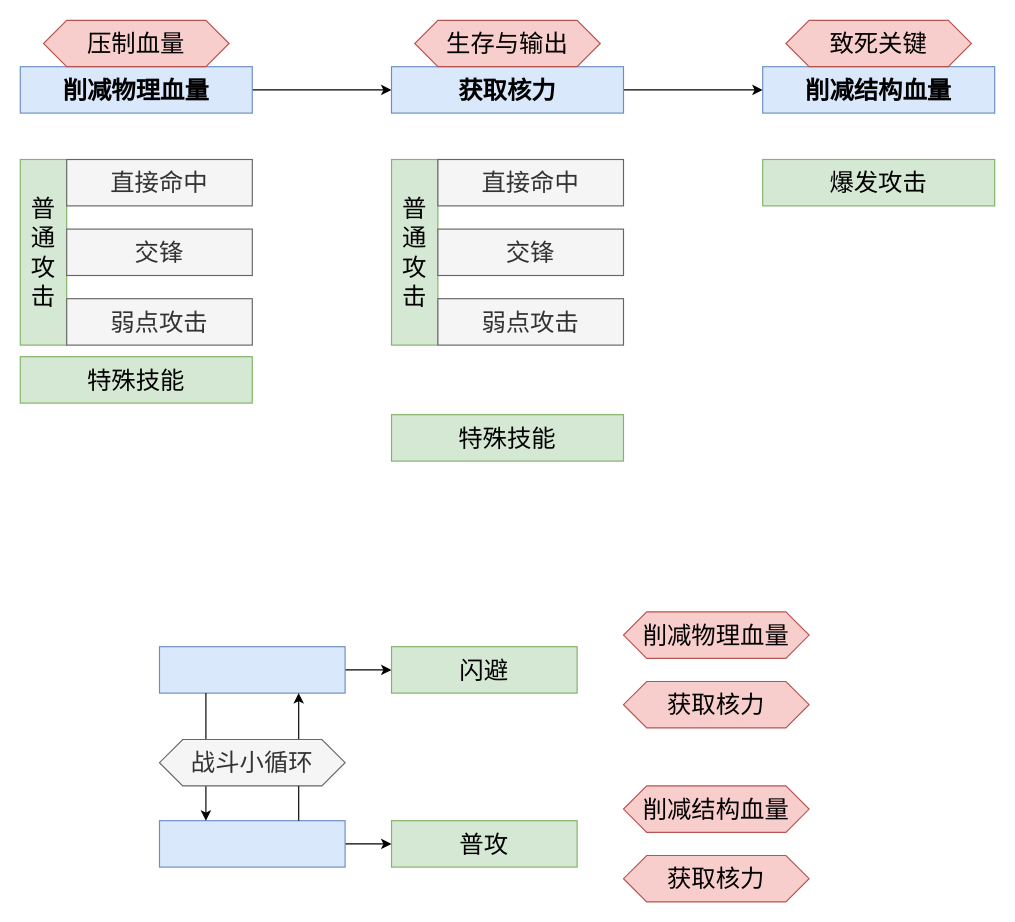
Some shapes in this 1015 by 922 pixel diagram are drawn without their labels. The shapes that lost their labels are listed below. From the top down, each one's centre as x and y in pixels, then its label:
At (251,669): "物理血量高".
At (251,843): "物理血量低".
